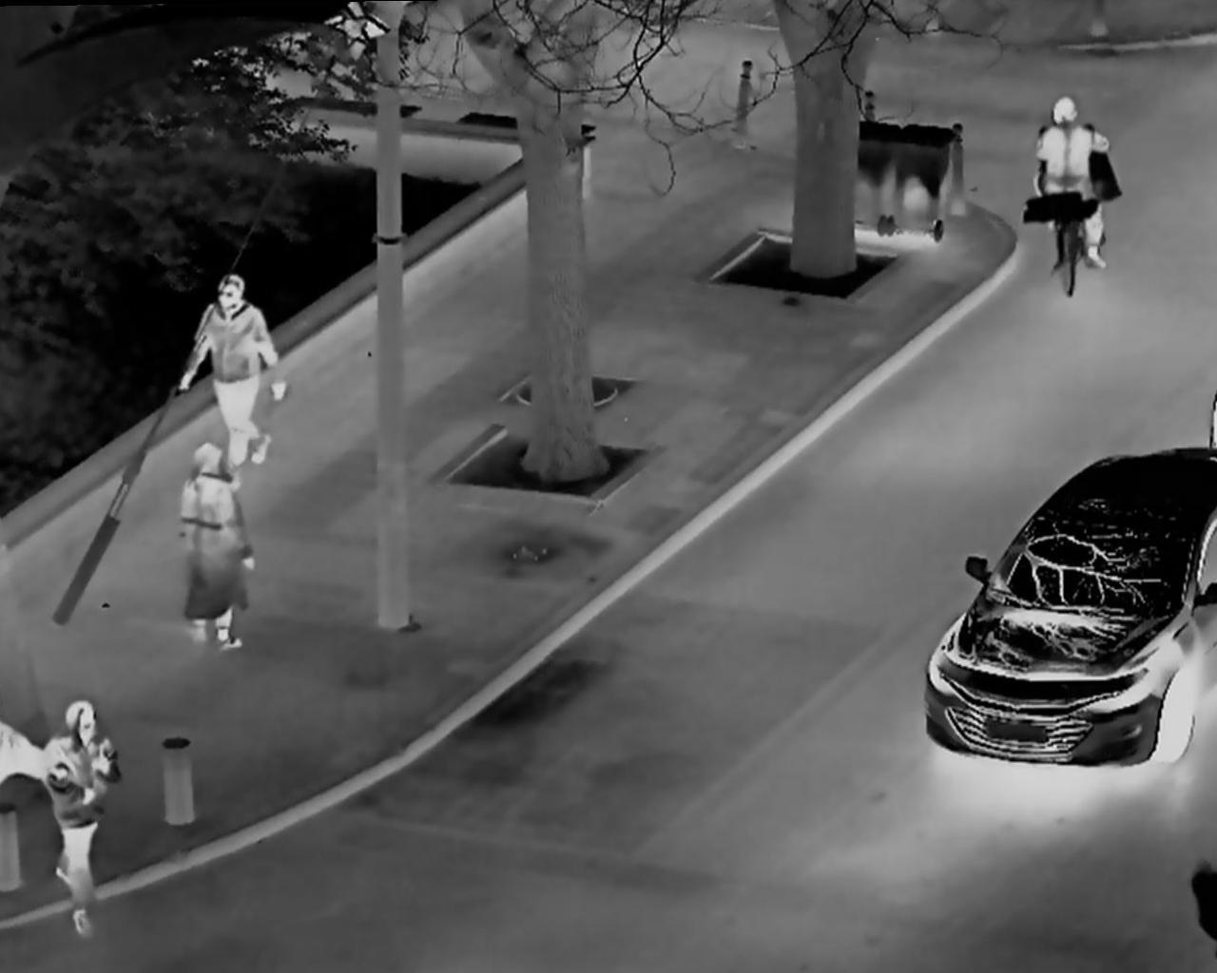person: (1017, 86, 1134, 309), (33, 692, 137, 941), (186, 264, 290, 479), (172, 439, 253, 662)
